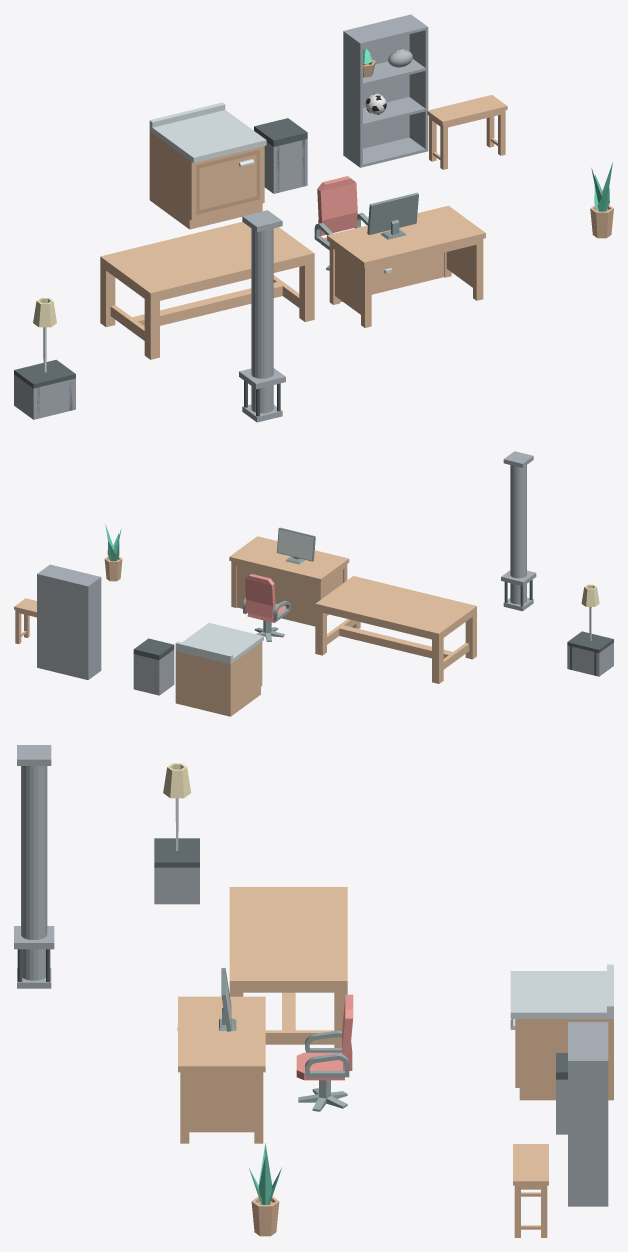
3 views of the same model, one above another, from view 1: azimuth 30°, elevation 25°; view 2: azimuth 150°, elevation 25°; view 3: azimuth 270°, elevation 25° (orthographic). The views are drawn at different scales.
Parts seen in each view (by area): view 1: table_green__table(Clone), desk_blue__desk(Clone), cabinet_blue__kitchenCabinet(Clone), column_cyan__column_cyan shaft, cabinet_blue__door, sidetable_brown__sideTable(Clone), shelf_orange__shelf_orange back, shelf_orange__shelf_orange side_l, deskchair_black__chair, bin_gray__bin_gray shell, crate_red__crate_red shell, shelf_orange__shelf_orange side_r (+10 smaller); view 2: table_green__table(Clone), cabinet_blue__kitchenCabinet(Clone), desk_blue__desk(Clone), shelf_orange__shelf_orange back, column_cyan__column_cyan shaft, deskchair_black__chair, shelf_orange__shelf_orange side_l, bin_gray__bin_gray shell, monitor_gray__computerScreen(Clone), crate_red__crate_red shell, sidetable_brown__sideTable(Clone), crate_red__crate_red lid (+3 smaller); view 3: table_green__table(Clone), desk_blue__desk(Clone), cabinet_blue__kitchenCabinet(Clone), shelf_orange__shelf_orange side_r, column_cyan__column_cyan shaft, deskchair_black__chair, sidetable_brown__sideTable(Clone), crate_red__crate_red shell, shelf_orange__shelf_orange board3, crate_red__crate_red lid, lamp_white__lampRoundFloor(Clone), plant_pink__pottedPlant(Clone) (+4 smaller).
Boxes of the visible parts, x1,y1,x2,y2 form: table_green__table(Clone): [100, 221, 314, 359]; desk_blue__desk(Clone): [327, 205, 485, 327]; cabinet_blue__kitchenCabinet(Clone): [149, 102, 266, 229]; column_cyan__column_cyan shaft: [251, 228, 273, 413]; cabinet_blue__door: [196, 150, 259, 214]; sidetable_brown__sideTable(Clone): [427, 95, 507, 169]; shelf_orange__shelf_orange back: [346, 15, 409, 148]; shelf_orange__shelf_orange side_l: [343, 30, 362, 167]; deskchair_black__chair: [314, 176, 368, 250]; bin_gray__bin_gray shell: [264, 139, 307, 193]; crate_red__crate_red shell: [14, 374, 75, 419]; shelf_orange__shelf_orange side_r: [409, 14, 428, 151]; table_green__table(Clone): [315, 576, 476, 683]; cabinet_blue__kitchenCabinet(Clone): [175, 623, 263, 716]; desk_blue__desk(Clone): [229, 536, 349, 626]; shelf_orange__shelf_orange back: [39, 574, 86, 679]; column_cyan__column_cyan shaft: [510, 465, 526, 604]; deskchair_black__chair: [243, 574, 290, 622]; shelf_orange__shelf_orange side_l: [86, 576, 101, 679]; bin_gray__bin_gray shell: [133, 650, 174, 695]; monitor_gray__computerScreen(Clone): [277, 527, 315, 564]; crate_red__crate_red shell: [567, 642, 613, 676]; sidetable_brown__sideTable(Clone): [14, 598, 36, 643]; crate_red__crate_red lid: [567, 631, 613, 652]; table_green__table(Clone): [229, 887, 347, 1047]; desk_blue__desk(Clone): [178, 996, 265, 1143]; cabinet_blue__kitchenCabinet(Clone): [510, 964, 613, 1100]; shelf_orange__shelf_orange side_r: [568, 1059, 608, 1206]; column_cyan__column_cyan shaft: [21, 766, 47, 980]; deskchair_black__chair: [296, 994, 353, 1080]; sidetable_brown__sideTable(Clone): [513, 1144, 548, 1237]; crate_red__crate_red shell: [154, 867, 199, 904]; shelf_orange__shelf_orange board3: [568, 1023, 605, 1059]; crate_red__crate_red lid: [154, 838, 199, 867]; lamp_white__lampRoundFloor(Clone): [163, 763, 191, 850]; plant_pink__pottedPlant(Clone): [251, 1196, 279, 1236].
Size of the model in its own units: 7.39 by 2.2 by 5.22.
